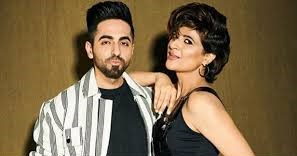Bad: (31, 1, 255, 156)
